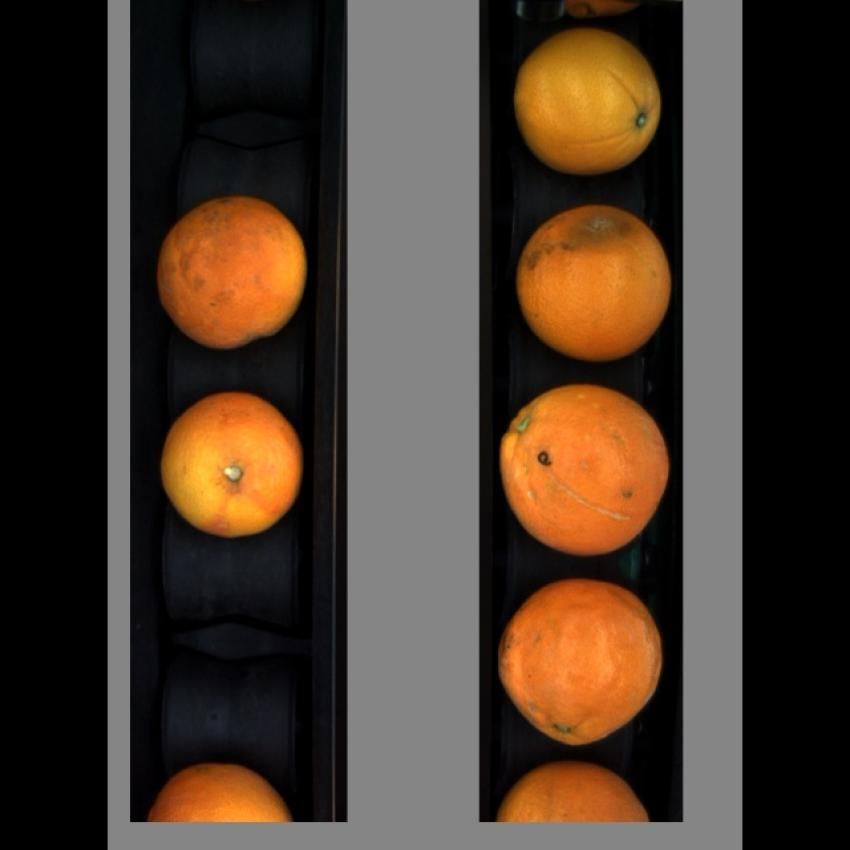Buen estado: (157, 386, 319, 536), (508, 29, 666, 169), (145, 755, 293, 822)
Mal estado: (489, 577, 671, 743), (494, 384, 670, 554), (511, 201, 675, 364), (152, 192, 315, 349), (499, 761, 652, 821)
